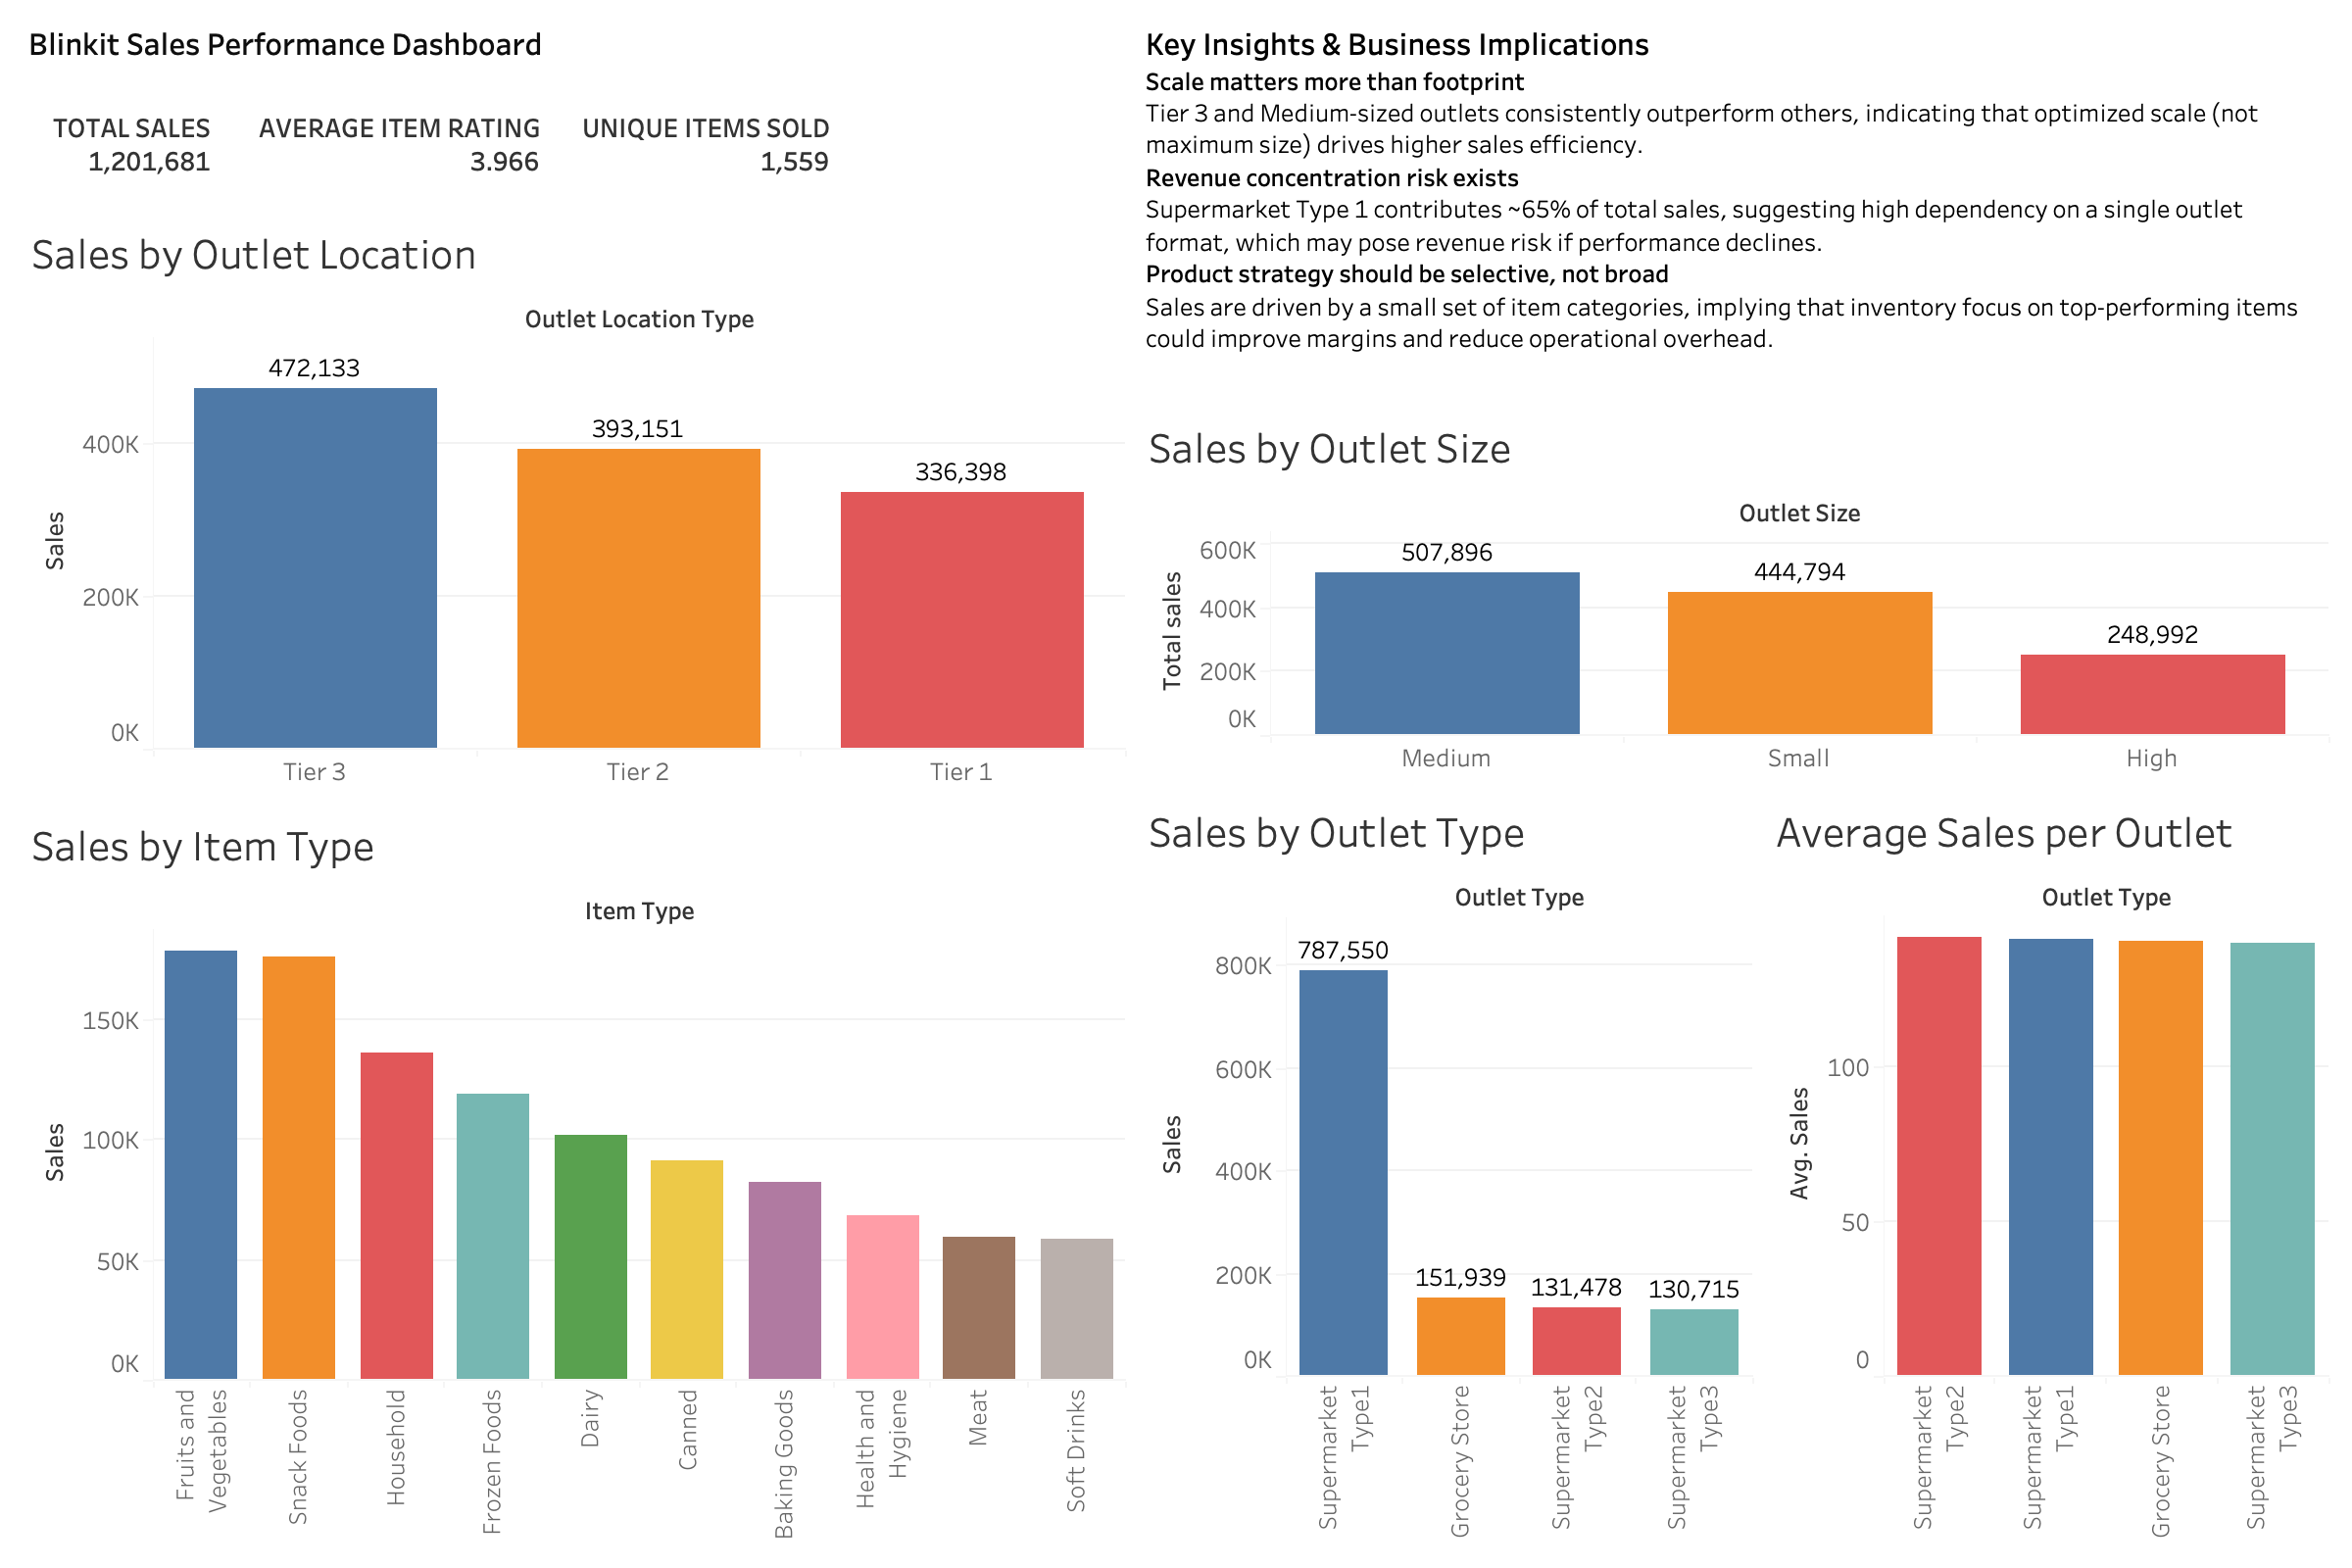

The page's visual inventory and layout, read from the dashboard file:
{"tool":"tableau","page":{"name":"Dashboard 1","canvas":[1200,800],"ordinal":0},"visuals":[{"type":"text","box":[8,8,570,29]},{"type":"text","box":[578,8,614,182]},{"type":"worksheet","title":"Sheet 2","mark":"Automatic","box":[8,37,108,59]},{"type":"worksheet","title":"Sheet 7","mark":"Automatic","box":[116,37,168,59]},{"type":"worksheet","title":"Sheet 8","mark":"Automatic","box":[284,37,148,59]},{"type":"worksheet","title":"Sheet 4","mark":"Automatic","rows":["Sales"],"cols":["Outlet Location Type"],"box":[8,105,570,302]},{"type":"worksheet","title":"Sheet 5","mark":"Bar","rows":["Sales"],"cols":["Outlet Size"],"box":[578,204,614,196]},{"type":"worksheet","title":"Sheet 3","mark":"Automatic","rows":["Sales"],"cols":["Outlet Type"],"box":[578,400,320,392]},{"type":"worksheet","title":"Sheet 6","mark":"Automatic","rows":["Sales"],"cols":["Outlet Type"],"box":[898,400,294,392]},{"type":"worksheet","title":"Sheet 1","mark":"Bar","rows":["Sales"],"cols":["Item Type"],"box":[8,407,570,385]}]}

Visuals, with their boxes in screenshot pixels (x1, y1, x2, y2), scaled from the page's 1200x800 canvas onto the 2352x1568 screenshot:
text: 16:16:1133:73
text: 1133:16:2336:372
"Sheet 2" worksheet: 16:73:227:188
"Sheet 7" worksheet: 227:73:557:188
"Sheet 8" worksheet: 557:73:847:188
"Sheet 4" worksheet: 16:206:1133:798
"Sheet 5" worksheet (Bar marks): 1133:400:2336:784
"Sheet 3" worksheet: 1133:784:1760:1552
"Sheet 6" worksheet: 1760:784:2336:1552
"Sheet 1" worksheet (Bar marks): 16:798:1133:1552
